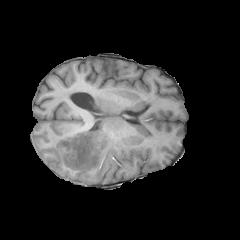glioma: (48, 127, 121, 184)
